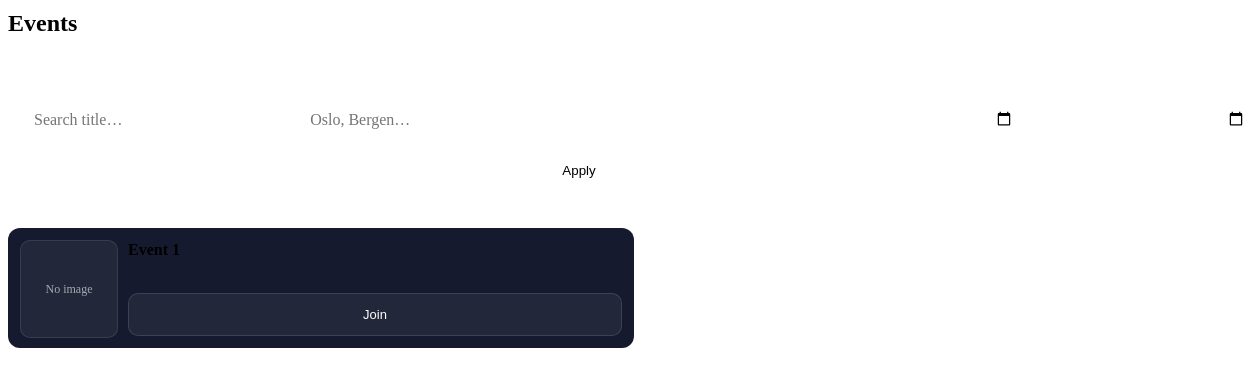
Scenario: ListEvents › Join flow: POSTs attend, then reloads and shows 'Leave'
The image size is (1260, 365).
Expected: the heading "Event 1" is shown, 128,240 -> 180,259
Click the button "Join". click: click(375, 315)
box: 128,293 -> 622,336
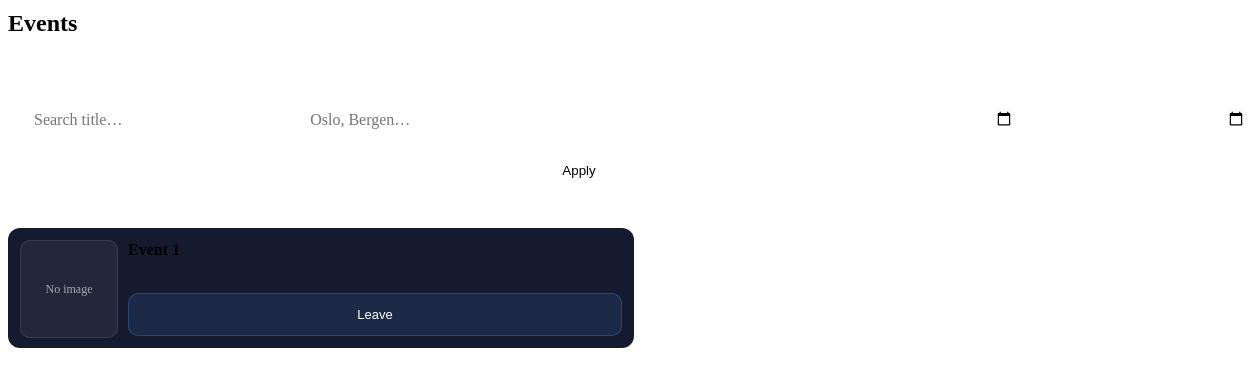
Result: the button "Leave" is shown at 128,293 -> 622,336
